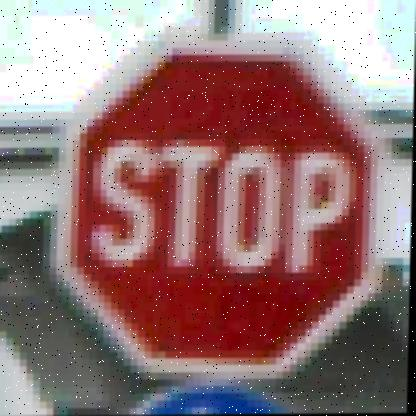Stop Sign: (63, 30, 399, 379)
